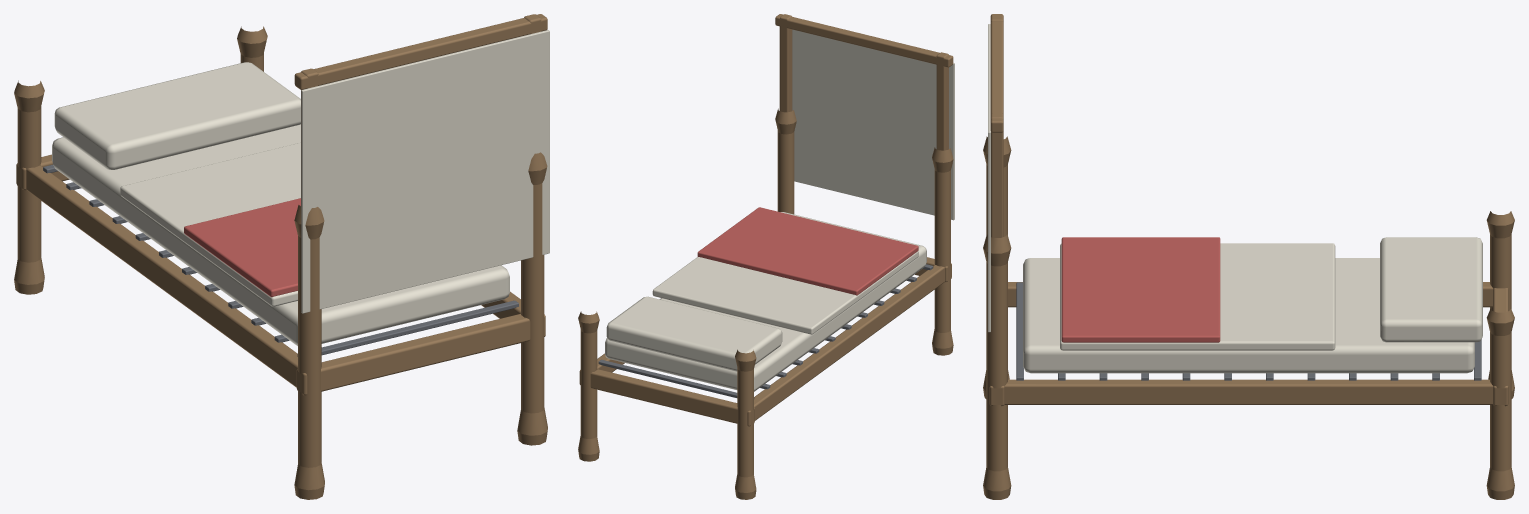
The model's file is infirmary-cot.glb.
3 renders of one model, left to right at view 1: azimuth 30°, elevation 25°; view 2: azimuth 150°, elevation 25°; view 3: azimuth 270°, elevation 25°, orthographic. The views are drawn at different scales.
Parts seen in each view (by area): view 1: infirmary-cot; view 2: infirmary-cot; view 3: infirmary-cot.
Boxes of the visible parts, box(x1,y1,x2,y2) form: infirmary-cot: box(14, 14, 549, 499); infirmary-cot: box(578, 14, 954, 499); infirmary-cot: box(983, 14, 1514, 499).
Bounding box in the file's own units: 1 × 1.63 × 2.07.
